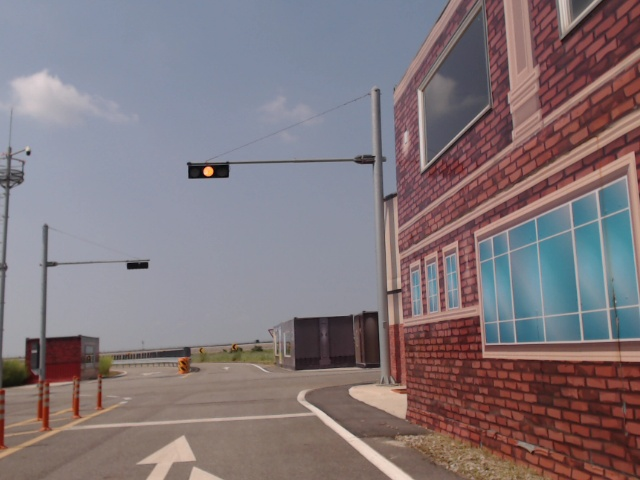orange_3: (187, 162, 231, 179)
